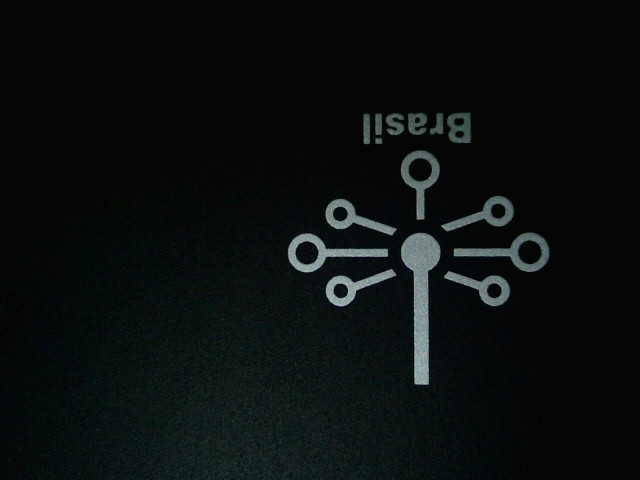BG_Brasil: (268, 86, 570, 407)
